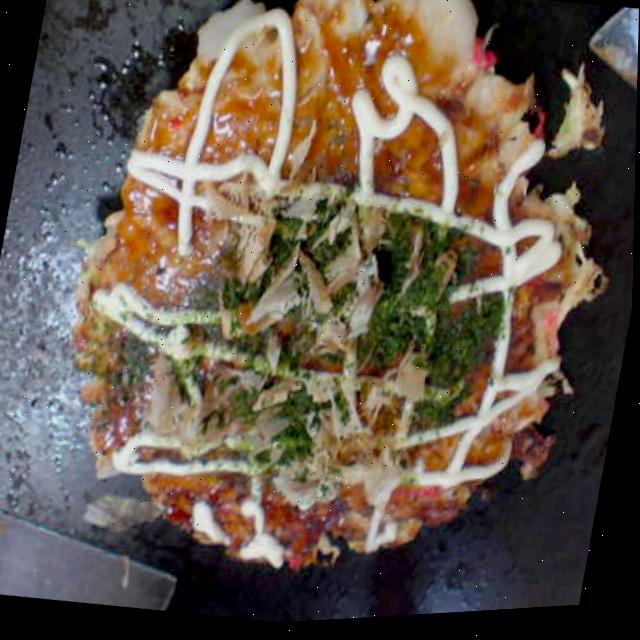蛋糕甜品: (40, 0, 630, 630)
